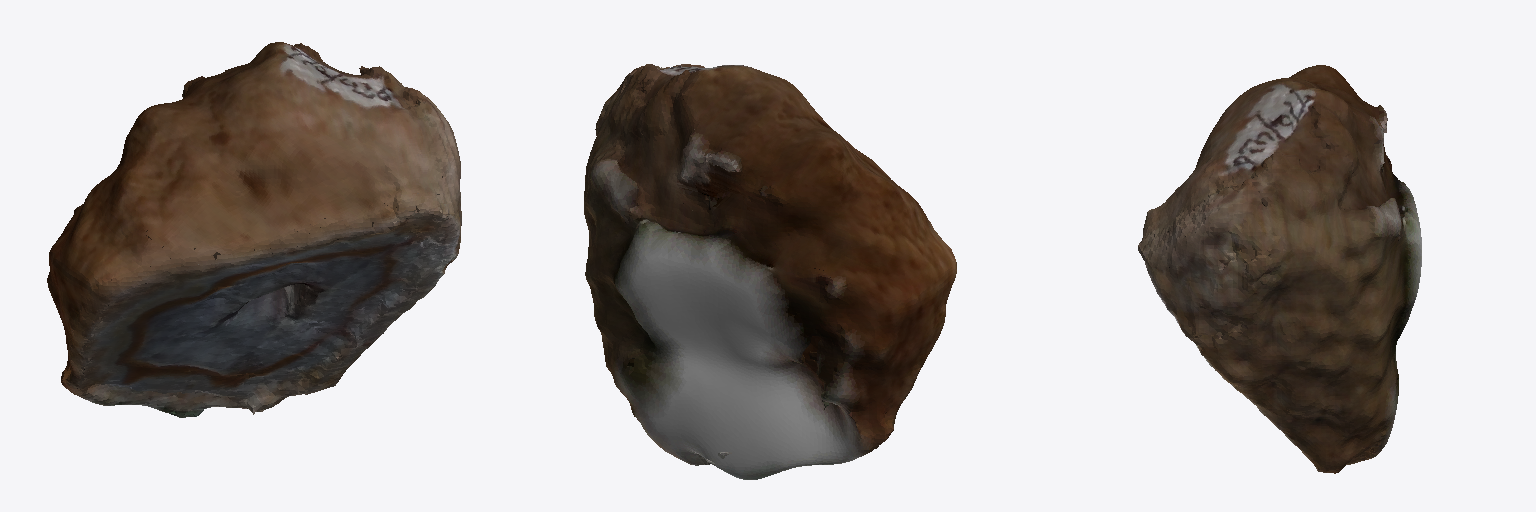
3 renders of one model, left to right at view 1: azimuth 30°, elevation 25°; view 2: azimuth 150°, elevation 25°; view 3: azimuth 270°, elevation 25°, orthographic.
Bounding box in the file's own units: 61.26 × 61.07 × 41.93.
3 materials, 3 textured.